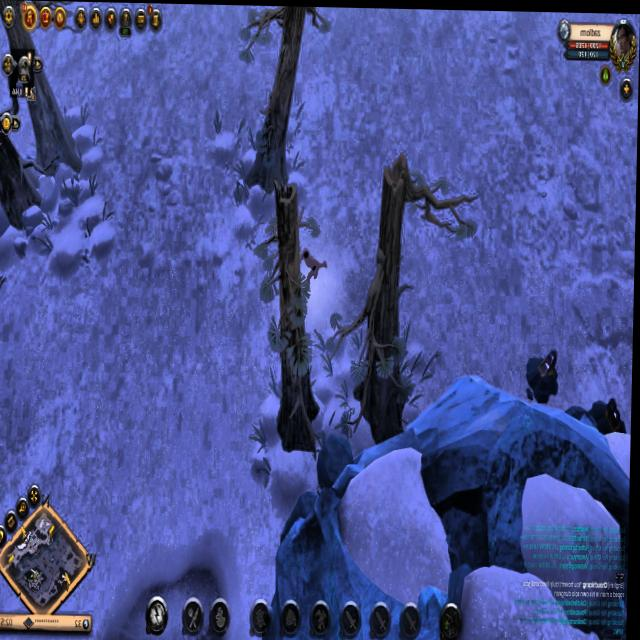copper_ore: (515, 343, 564, 404), (599, 390, 629, 430)
